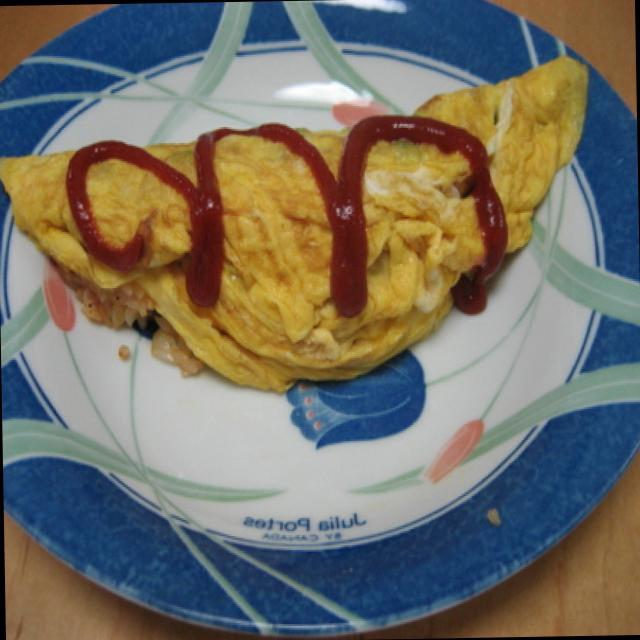Omelet: (0, 44, 596, 395)
